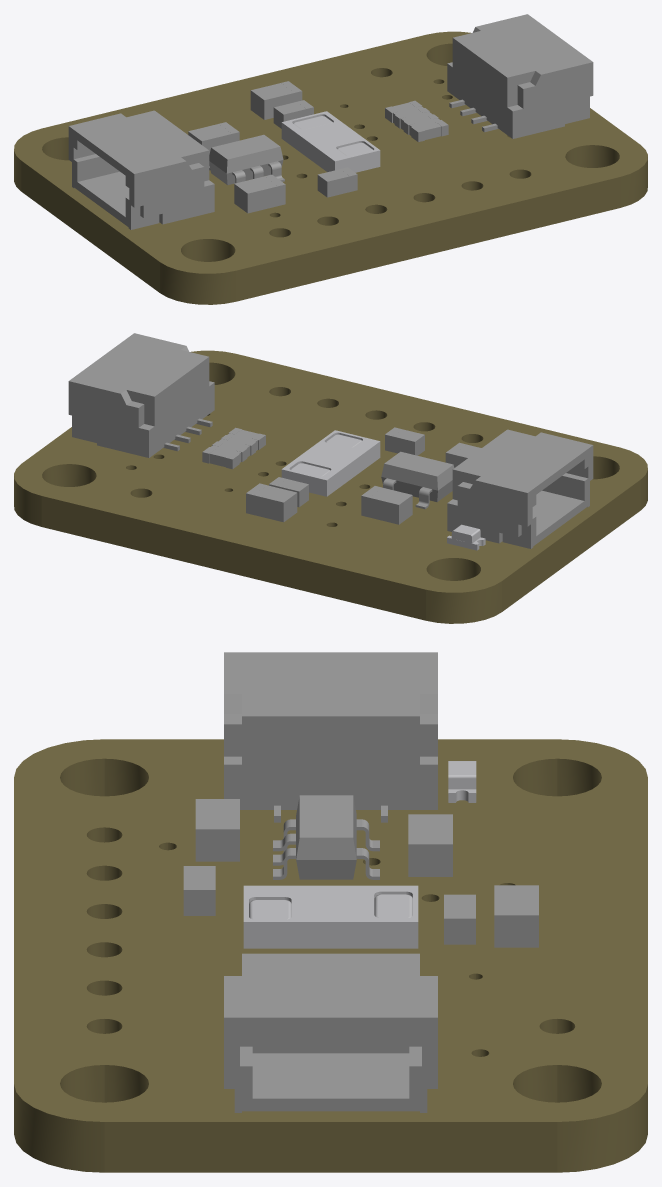
File: ada-5810.glb
3 views of the same model, one above another, from view 1: azimuth 30°, elevation 25°; view 2: azimuth 150°, elevation 25°; view 3: azimuth 270°, elevation 25° (orthographic). The views are drawn at different scales.
Visible parts, largest first — view 1: 0.16666666666666666_0.16666666666666666_0.08333333333333333_, 0.3333333333333333_0.3333333333333333_0.3333333333333333_0, 0.5833333333333334_0.5833333333333334_0.5833333333333334_0.8; view 2: 0.16666666666666666_0.16666666666666666_0.08333333333333333_, 0.3333333333333333_0.3333333333333333_0.3333333333333333_0, 0.5833333333333334_0.5833333333333334_0.5833333333333334_0.8; view 3: 0.16666666666666666_0.16666666666666666_0.08333333333333333_, 0.3333333333333333_0.3333333333333333_0.3333333333333333_0, 0.5833333333333334_0.5833333333333334_0.5833333333333334_0.8.
Boxes of the visible parts, x1,y1,x2,y2 form: 0.16666666666666666_0.16666666666666666_0.08333333333333333_: [14, 31, 647, 304]; 0.3333333333333333_0.3333333333333333_0.3333333333333333_0: [68, 14, 593, 229]; 0.5833333333333334_0.5833333333333334_0.5833333333333334_0.8: [281, 111, 380, 172]; 0.16666666666666666_0.16666666666666666_0.08333333333333333_: [14, 350, 647, 623]; 0.3333333333333333_0.3333333333333333_0.3333333333333333_0: [68, 333, 593, 548]; 0.5833333333333334_0.5833333333333334_0.5833333333333334_0.8: [281, 430, 485, 550]; 0.16666666666666666_0.16666666666666666_0.08333333333333333_: [14, 739, 647, 1172]; 0.3333333333333333_0.3333333333333333_0.3333333333333333_0: [183, 652, 538, 1112]; 0.5833333333333334_0.5833333333333334_0.5833333333333334_0.8: [243, 761, 476, 948].
Size of the model in its own units: 2.54 by 0.453 by 1.78.
